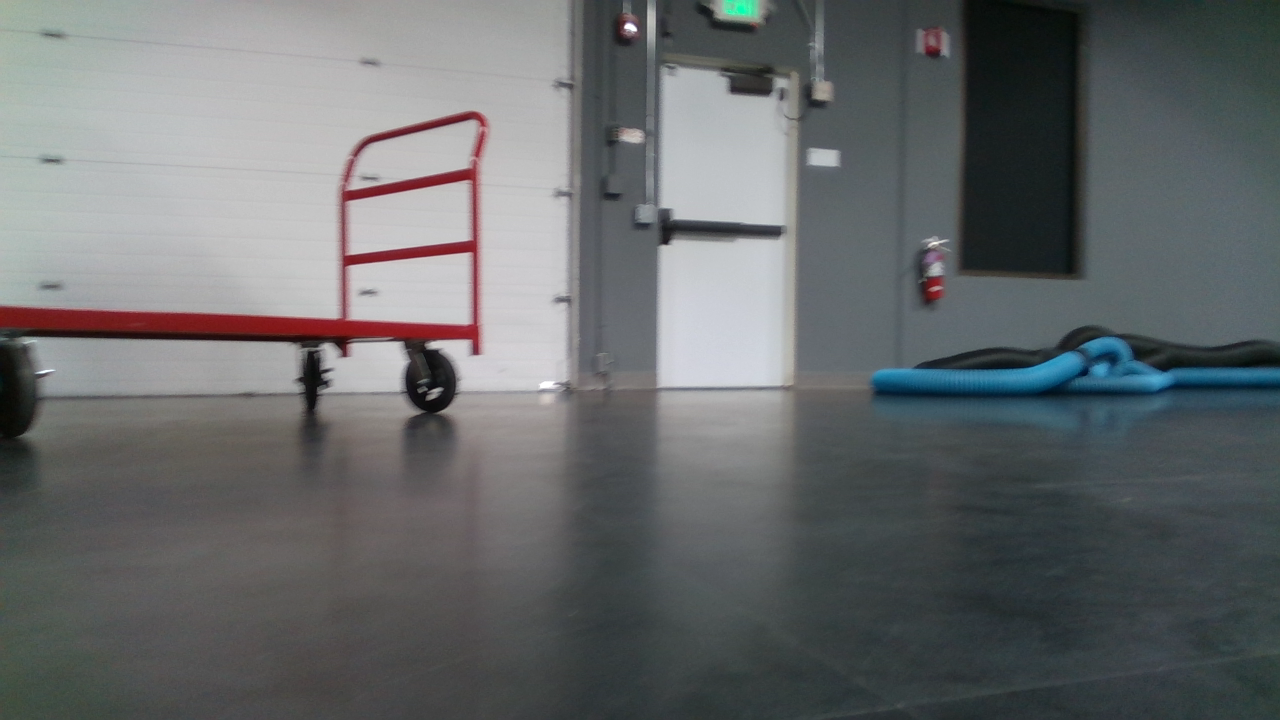Dolly: (0, 106, 488, 441)
Wheel: (0, 336, 57, 439), (399, 345, 458, 416), (291, 342, 336, 409)
